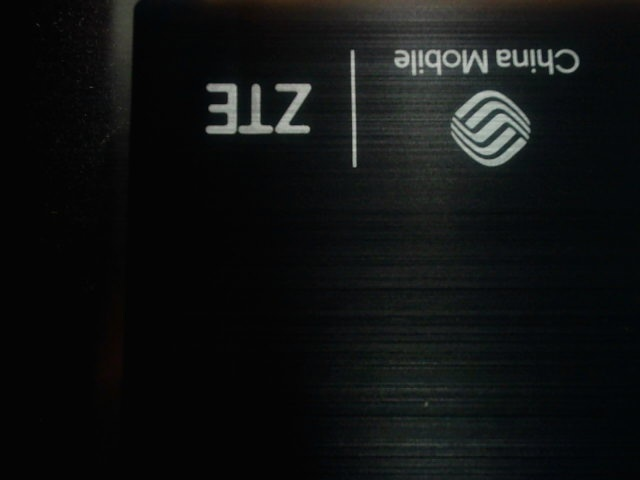AL_ZTEChinaMobile: (178, 31, 598, 174)
